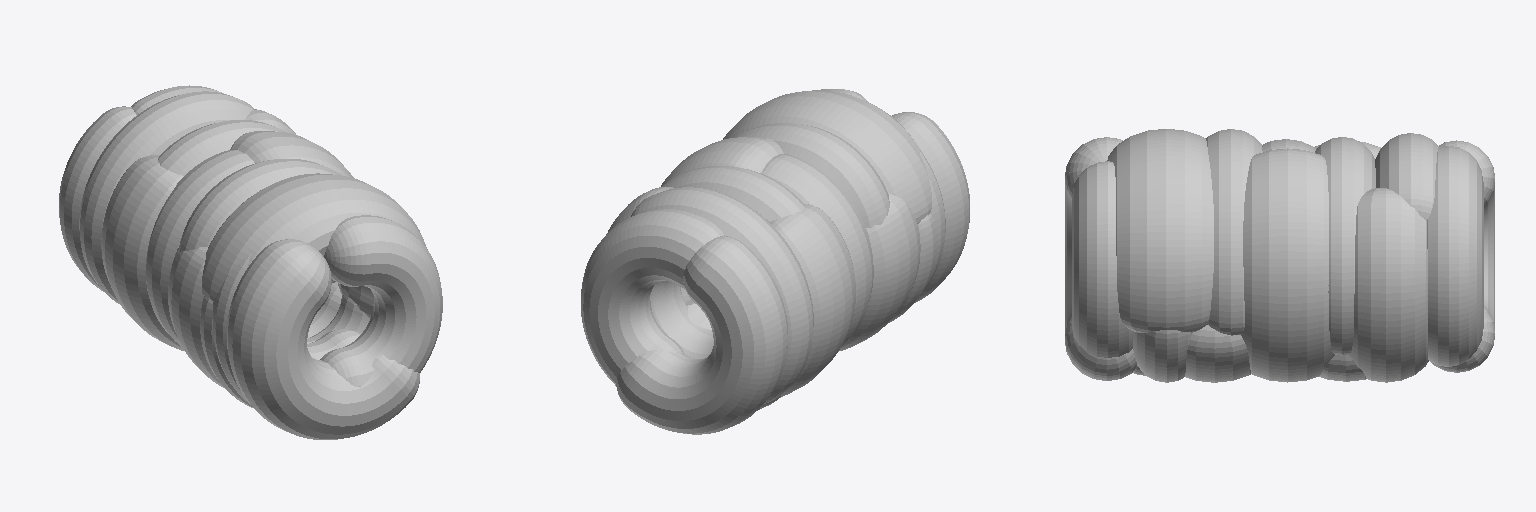
Rendered from Avalanche.obj.
3 views of the same model, side by side, from view 1: azimuth 30°, elevation 25°; view 2: azimuth 150°, elevation 25°; view 3: azimuth 270°, elevation 25° (orthographic).
Visible parts, largest first — view 1: polySurface40; view 2: polySurface40; view 3: polySurface40.
Boxes of the visible parts, <box> form: polySurface40: <box>59,85,442,439</box>; polySurface40: <box>581,89,969,434</box>; polySurface40: <box>1065,129,1494,382</box>.
Bounding box in the file's own units: 392 × 391 × 665.